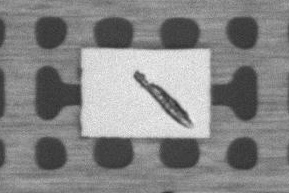DIE_INK: (192, 43, 289, 88)
